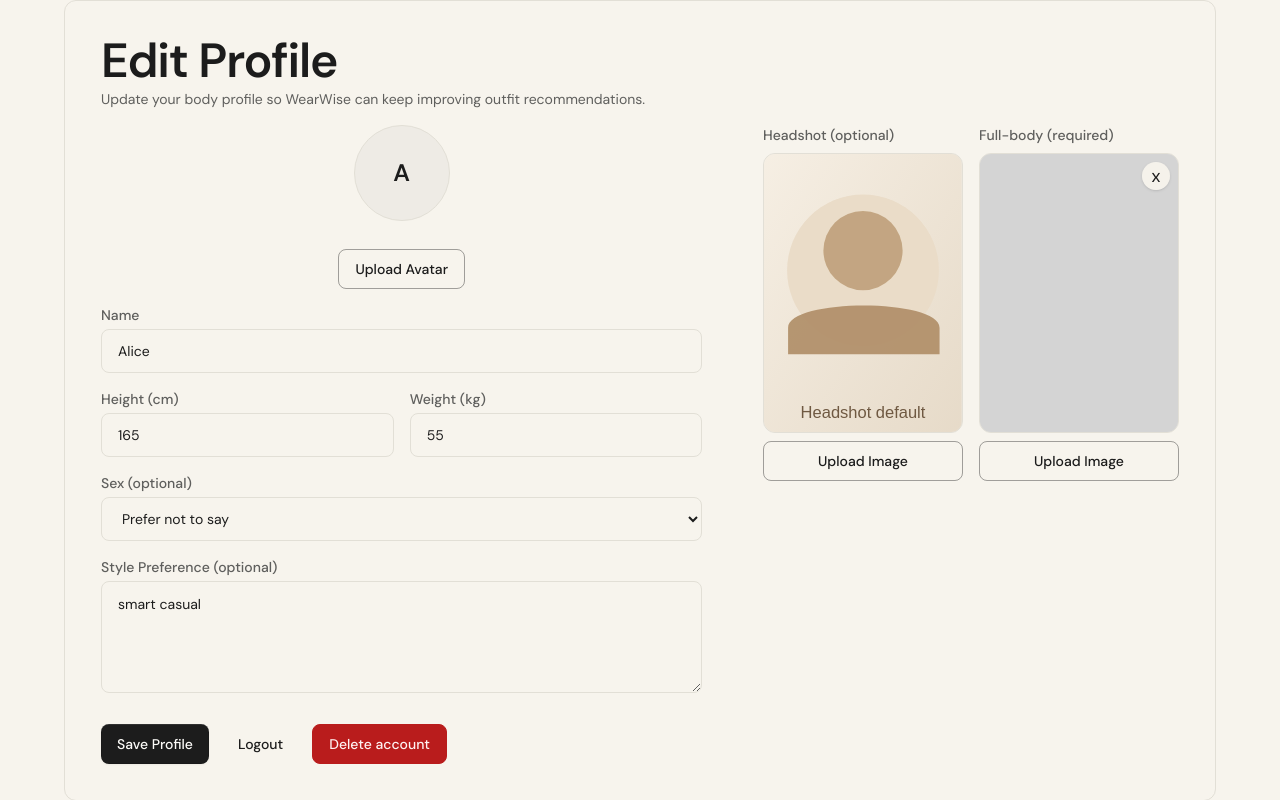
ProfilePage › shows the save error message when saveProfile fails
Click the button "Save Profile" at (155, 744), box [101,724,209,764]
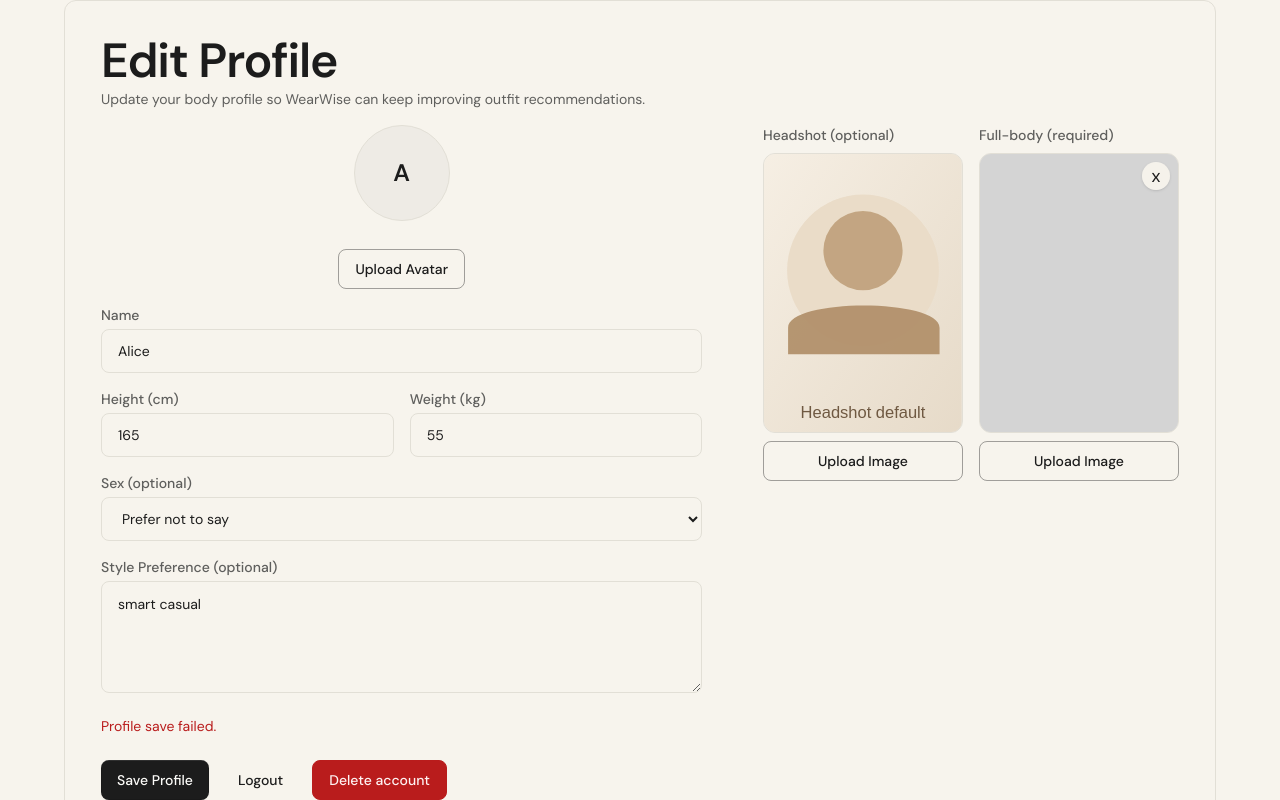
Now the text "Profile save failed." is shown, box [101,717,216,735]
